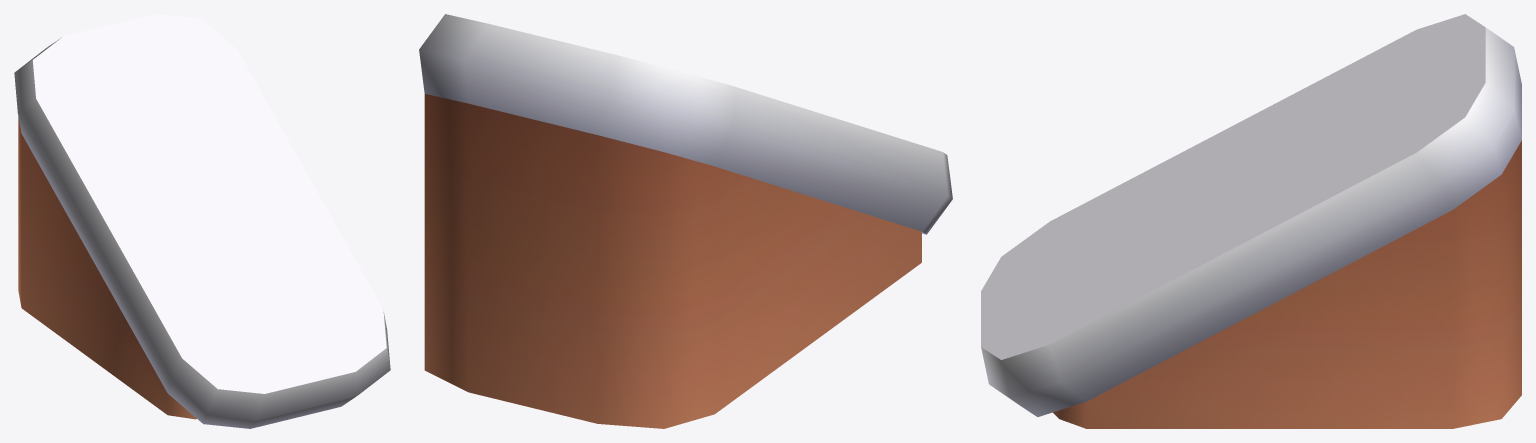
The model's file is kenney-platformer-block-snow-large-slope-steep-narrow.glb.
3 views of the same model, side by side, from view 1: azimuth 30°, elevation 25°; view 2: azimuth 150°, elevation 25°; view 3: azimuth 270°, elevation 25° (orthographic). The views are drawn at different scales.
Visible parts, largest first — view 1: block-snow-large-slope-steep-narrow; view 2: block-snow-large-slope-steep-narrow; view 3: block-snow-large-slope-steep-narrow.
Boxes of the visible parts, box(x1,y1,x2,y2) form: block-snow-large-slope-steep-narrow: box(14, 14, 390, 428); block-snow-large-slope-steep-narrow: box(419, 14, 952, 428); block-snow-large-slope-steep-narrow: box(981, 14, 1521, 428).
Bounding box in the file's own units: 1.08 × 1.22 × 1.86.
1 material, 1 textured.
